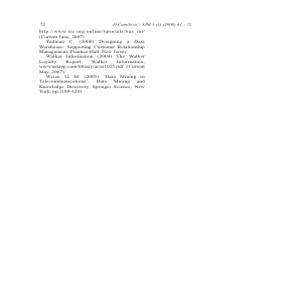text: (33, 27, 150, 93)
